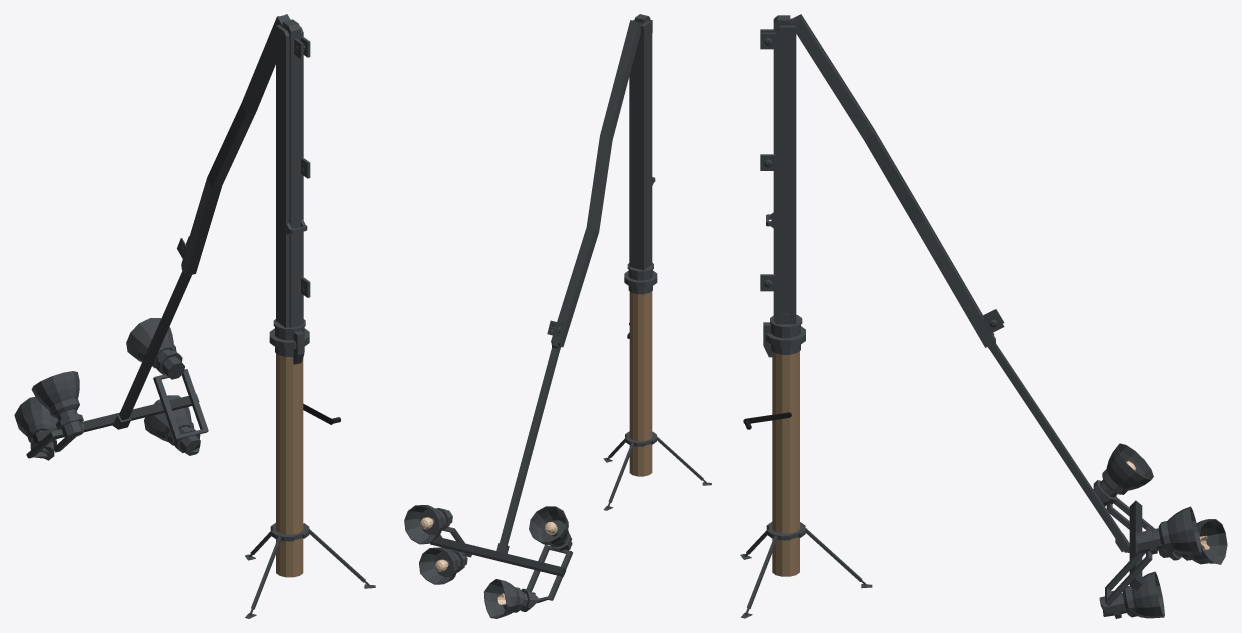
The model's file is SM_Lamp_Post_Broken.gltf.
The picture shows the model from 3 angles, left to right: view 1: azimuth 30°, elevation 25°; view 2: azimuth 150°, elevation 25°; view 3: azimuth 270°, elevation 25°; orthographic projection. The views are drawn at different scales.
Parts seen in each view (by area): view 1: SM_Lamp_Post_Broken; view 2: SM_Lamp_Post_Broken; view 3: SM_Lamp_Post_Broken.
Part boxes in pixels (bbox=[...]): SM_Lamp_Post_Broken: bbox=[14, 14, 375, 618]; SM_Lamp_Post_Broken: bbox=[404, 14, 711, 618]; SM_Lamp_Post_Broken: bbox=[740, 14, 1227, 618].
Size of the model in its own units: 0.9412 by 3.08 by 2.38.
